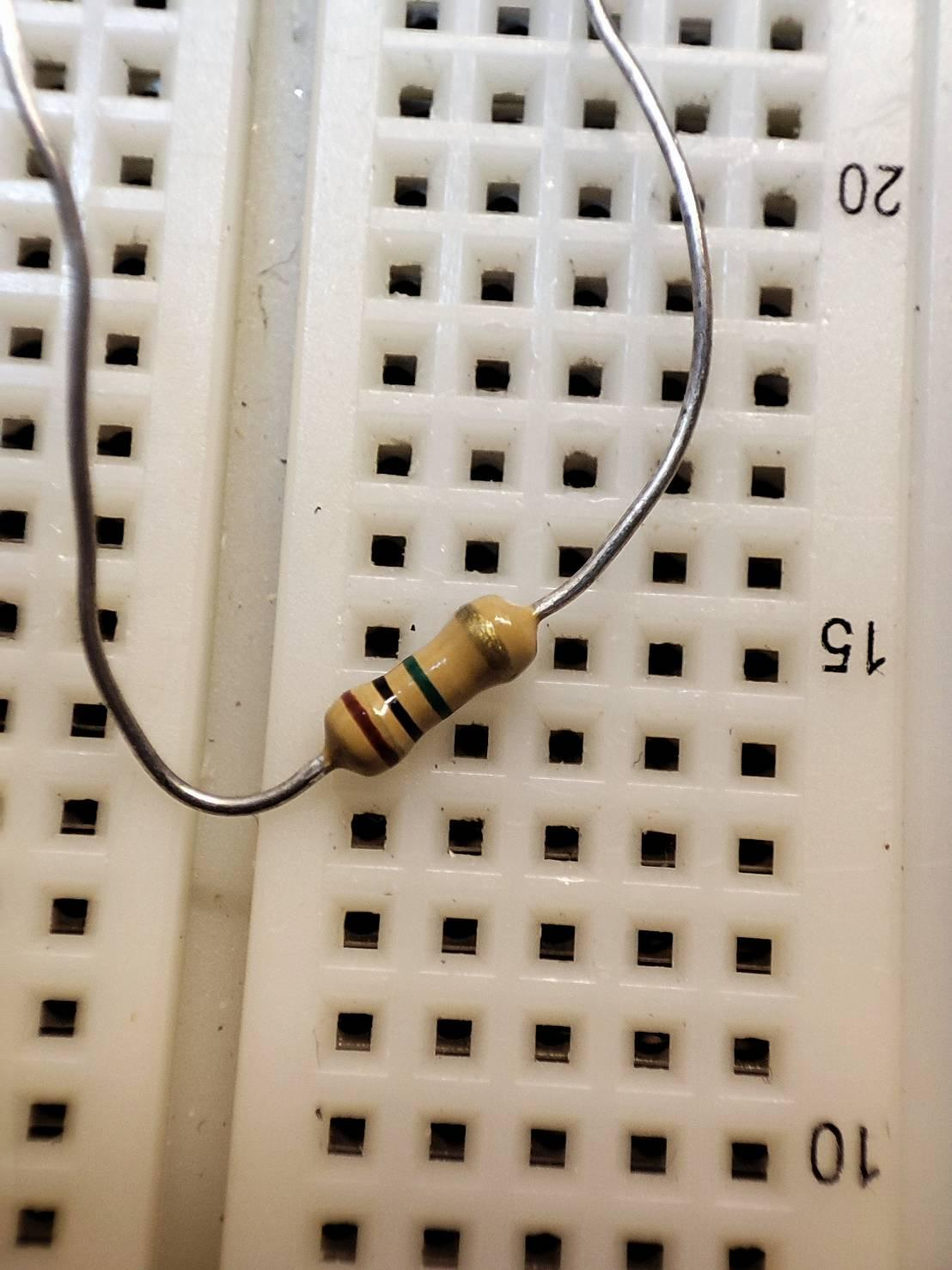resistor: (325, 595, 522, 774)
